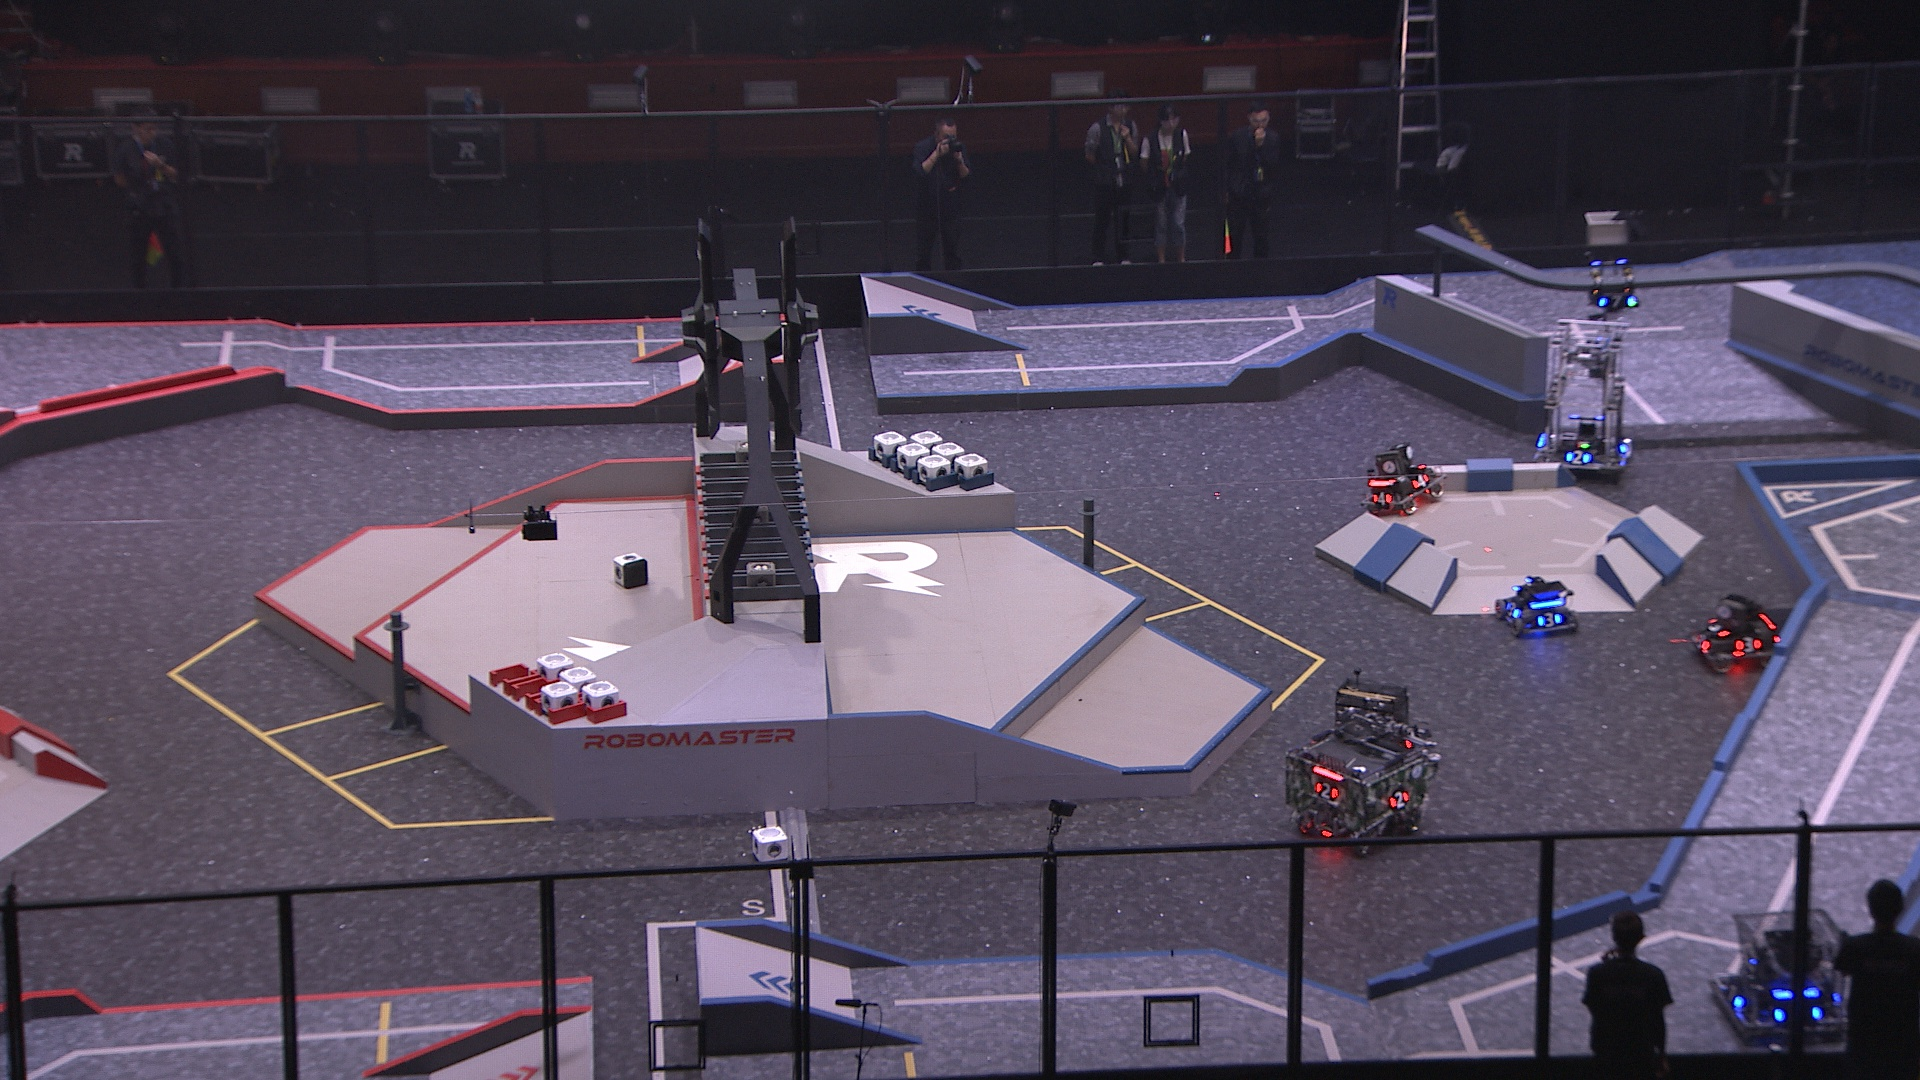armor: (1724, 982, 1743, 1015), (1598, 294, 1638, 310), (1733, 636, 1764, 654), (1565, 448, 1594, 465), (1313, 782, 1338, 800), (1704, 618, 1724, 641), (1390, 790, 1414, 808), (1538, 611, 1564, 626), (1505, 600, 1523, 622), (1371, 491, 1394, 506), (1414, 472, 1429, 491)
car: (1282, 713, 1437, 856), (1713, 905, 1854, 1046), (1536, 310, 1640, 479), (1320, 666, 1441, 757), (1695, 589, 1783, 671), (1364, 444, 1447, 518), (1495, 576, 1577, 642)
watcher: (1584, 257, 1642, 322)
